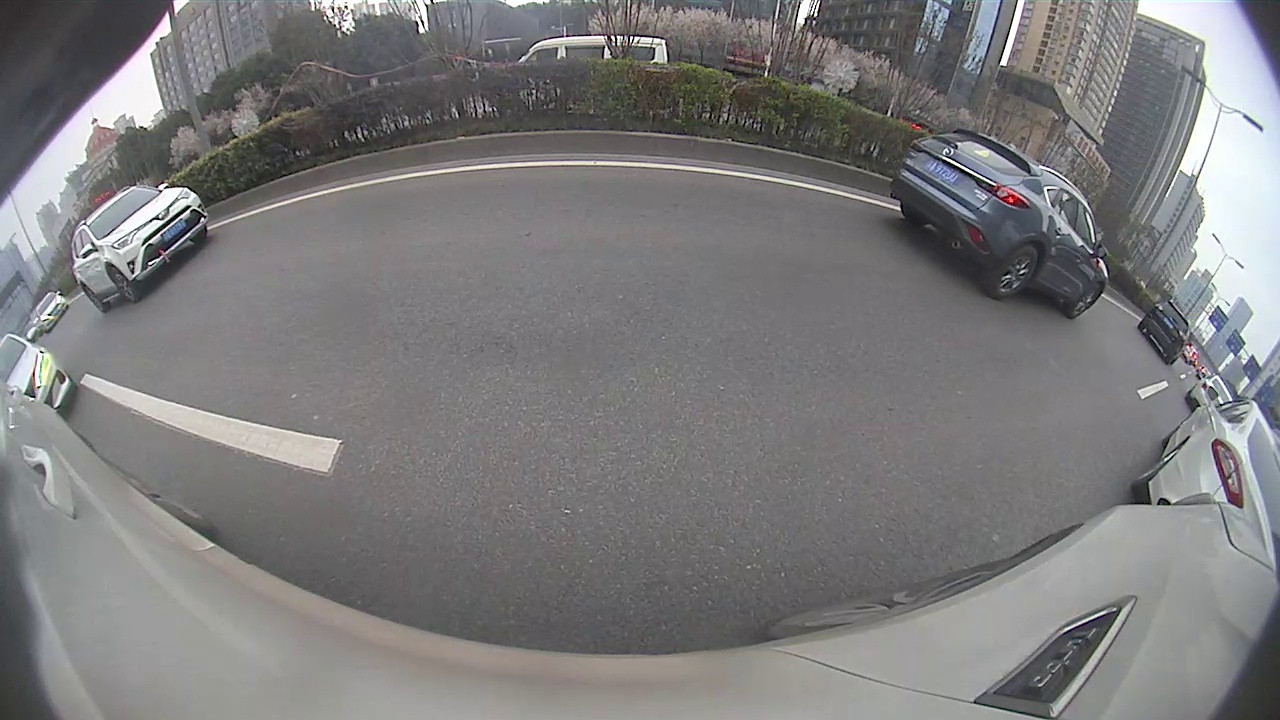car: (888, 128, 1110, 321), (1129, 385, 1278, 576), (68, 180, 212, 315), (1135, 298, 1196, 367)
front: (1067, 282, 1104, 317), (107, 265, 139, 302)
rear: (986, 248, 1041, 297)
